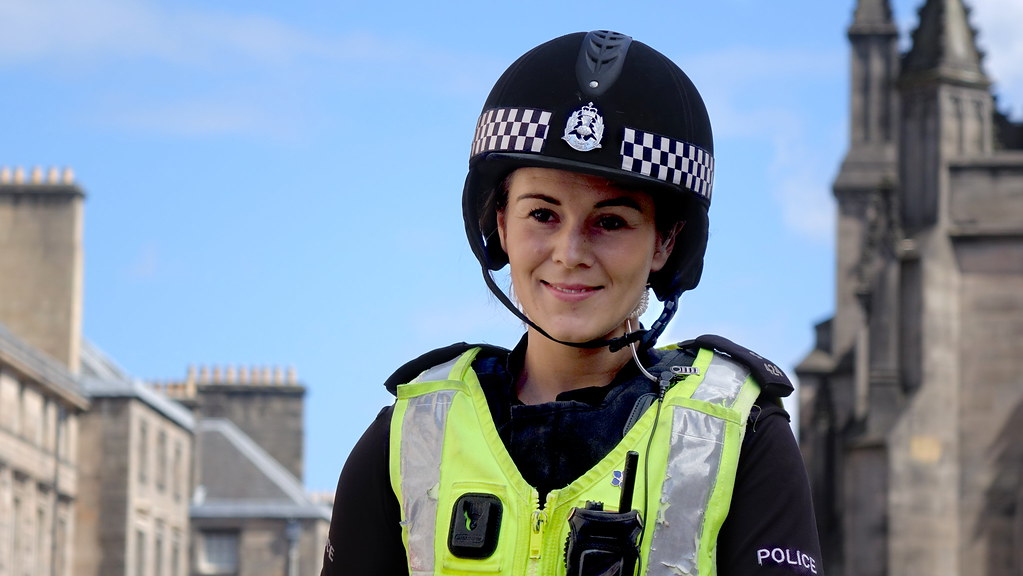helmet: (466, 24, 725, 228)
